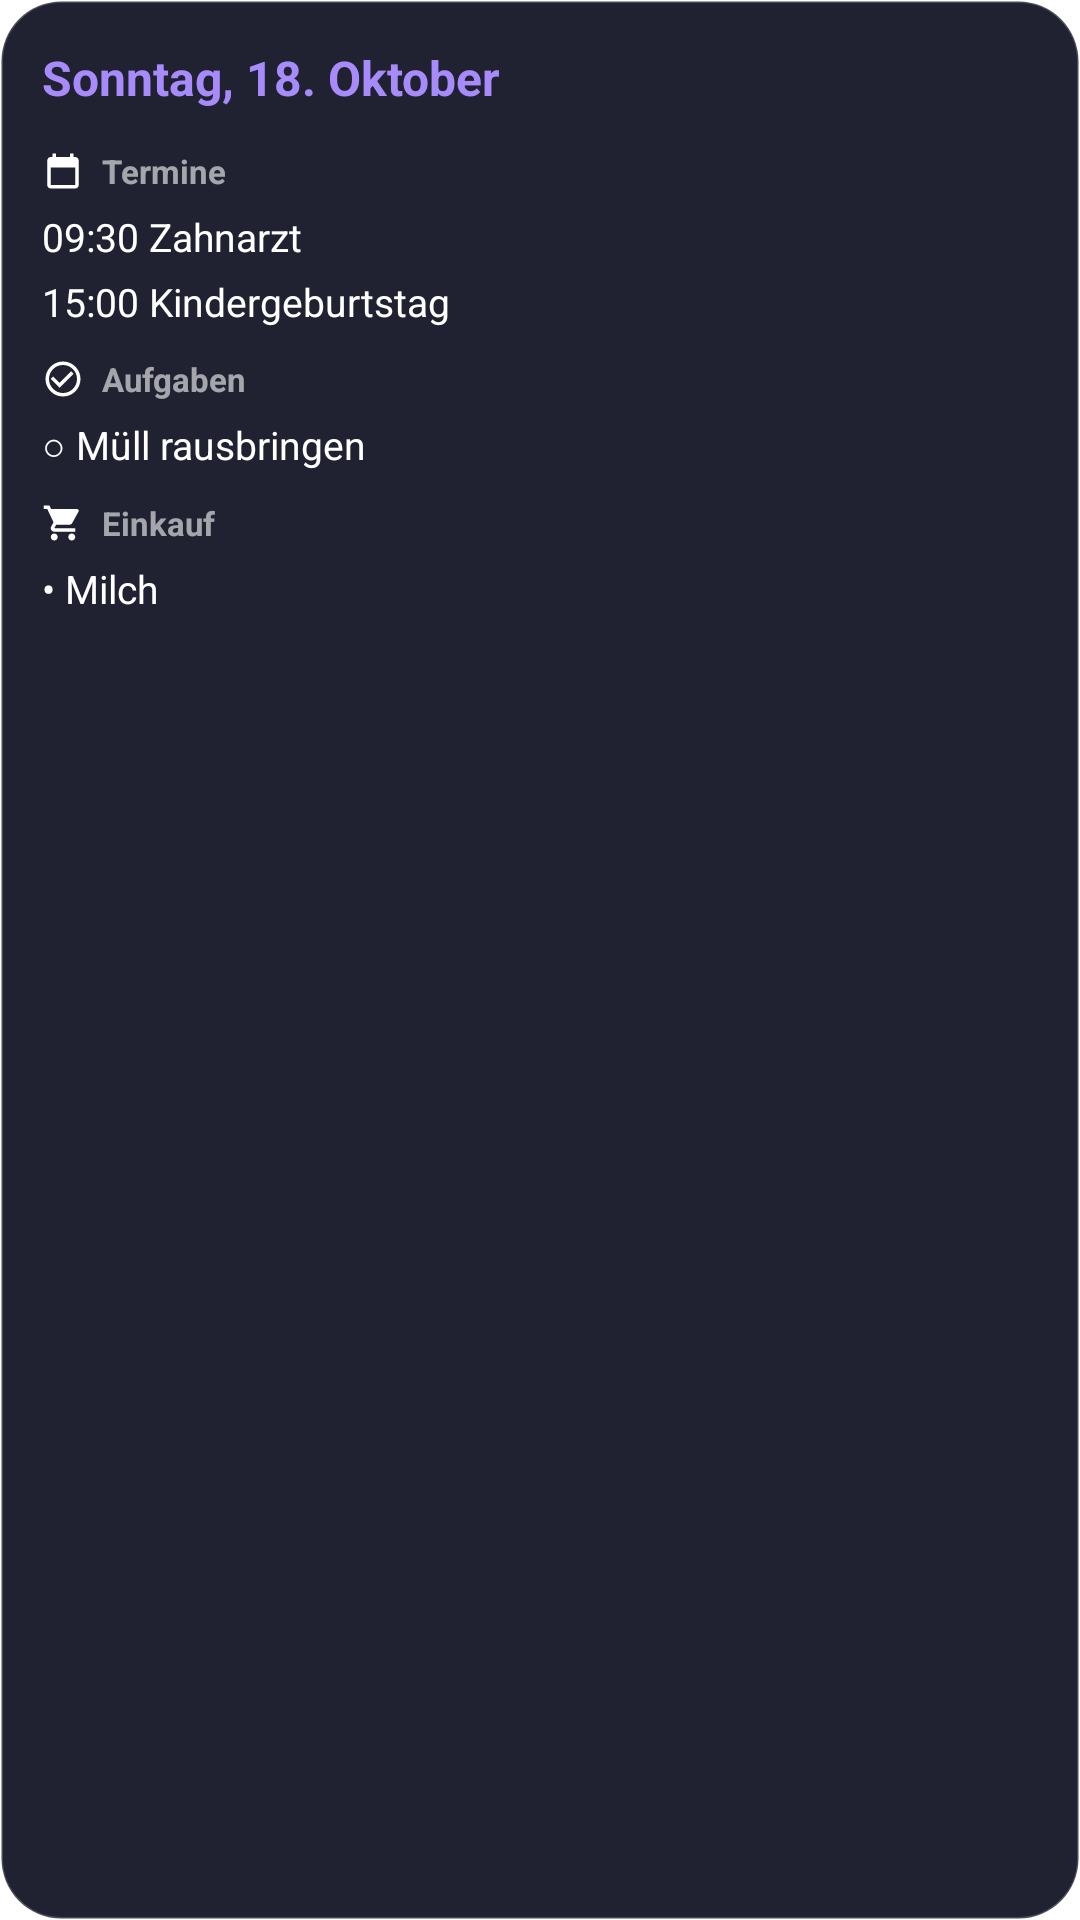

Icon bounding boxes for this 1080x1920 phone screenshot, format (x1, y1, x2, y2):
widget events: (47, 153, 79, 189)
widget shopping: (43, 505, 79, 541)
widget tasks: (45, 361, 81, 397)
